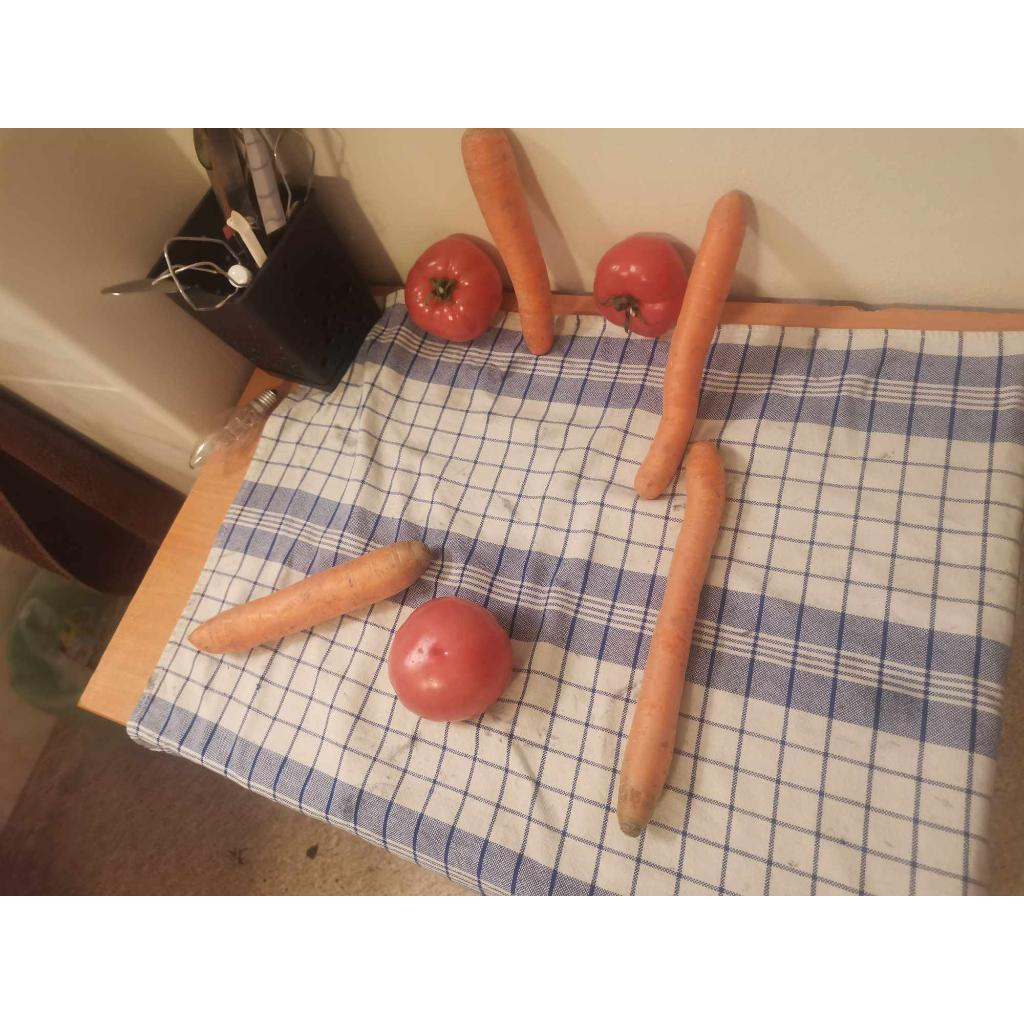carrot: (618, 442, 726, 836), (634, 192, 746, 500), (188, 540, 432, 654), (462, 128, 554, 355)
tomato: (388, 596, 512, 722), (404, 238, 502, 342), (594, 236, 688, 338)
